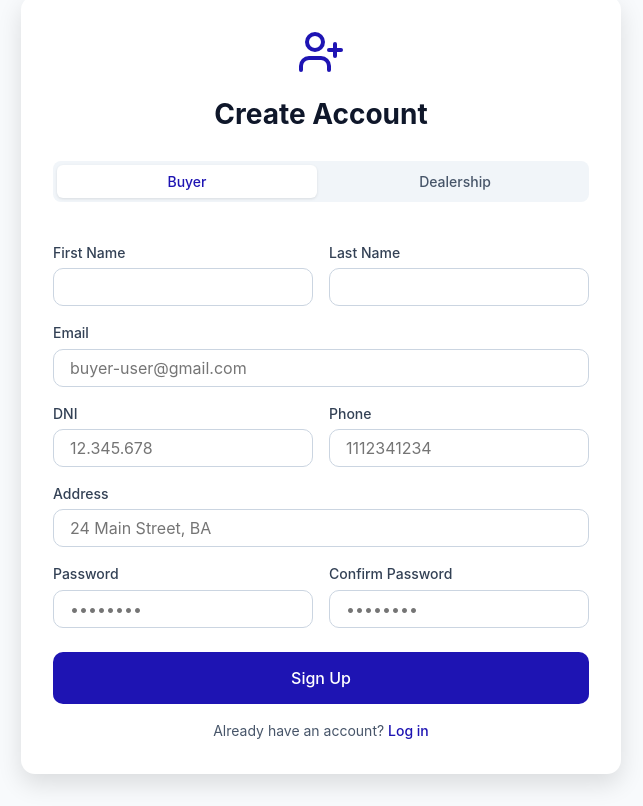
Test: RegisterPage › DNI Formatting › should format DNI with dots
This screenshot has width=643, height=806.
Type "12345678" into the field labelled "DNI".
click(183, 448); type("12345678")  # box [53,429,313,467]
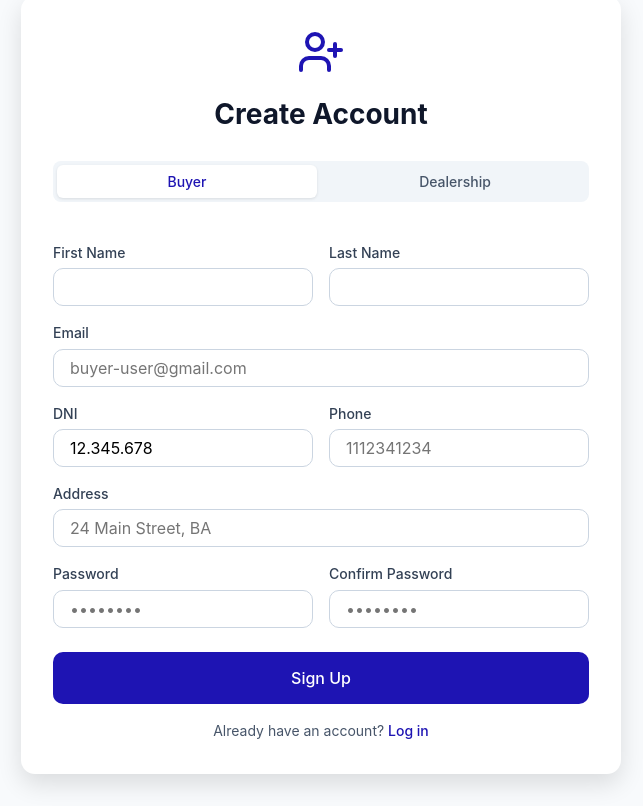
Expected: the field labelled "DNI" holds "12.345.678", [53,429,313,467]
